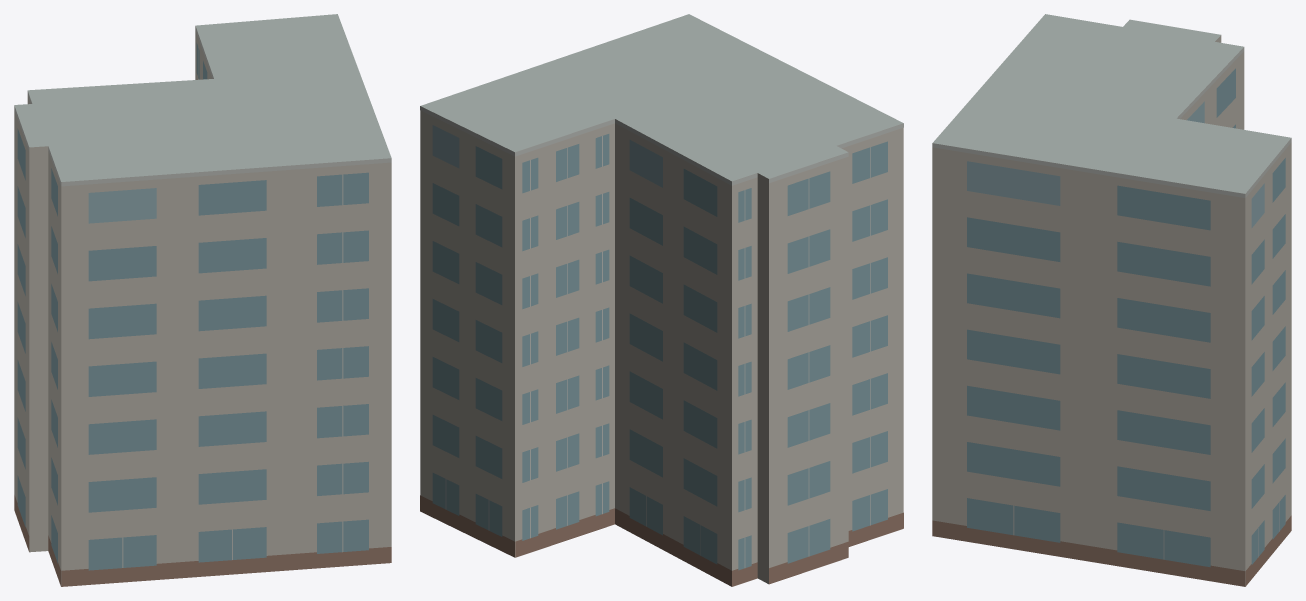
Rendered from survey-upis-32893080.glb.
3 renders of one model, left to right at view 1: azimuth 30°, elevation 25°; view 2: azimuth 150°, elevation 25°; view 3: azimuth 270°, elevation 25°, orthographic. The views are drawn at different scales.
Visible parts, largest first — view 1: survey-upis-32893080.tmp; view 2: survey-upis-32893080.tmp; view 3: survey-upis-32893080.tmp.
Boxes of the visible parts, x1,y1,x2,y2 form: survey-upis-32893080.tmp: (14, 14, 391, 586); survey-upis-32893080.tmp: (420, 14, 903, 586); survey-upis-32893080.tmp: (932, 14, 1291, 586).
Size of the model in its own units: 22.39 by 22.8 by 18.89.
